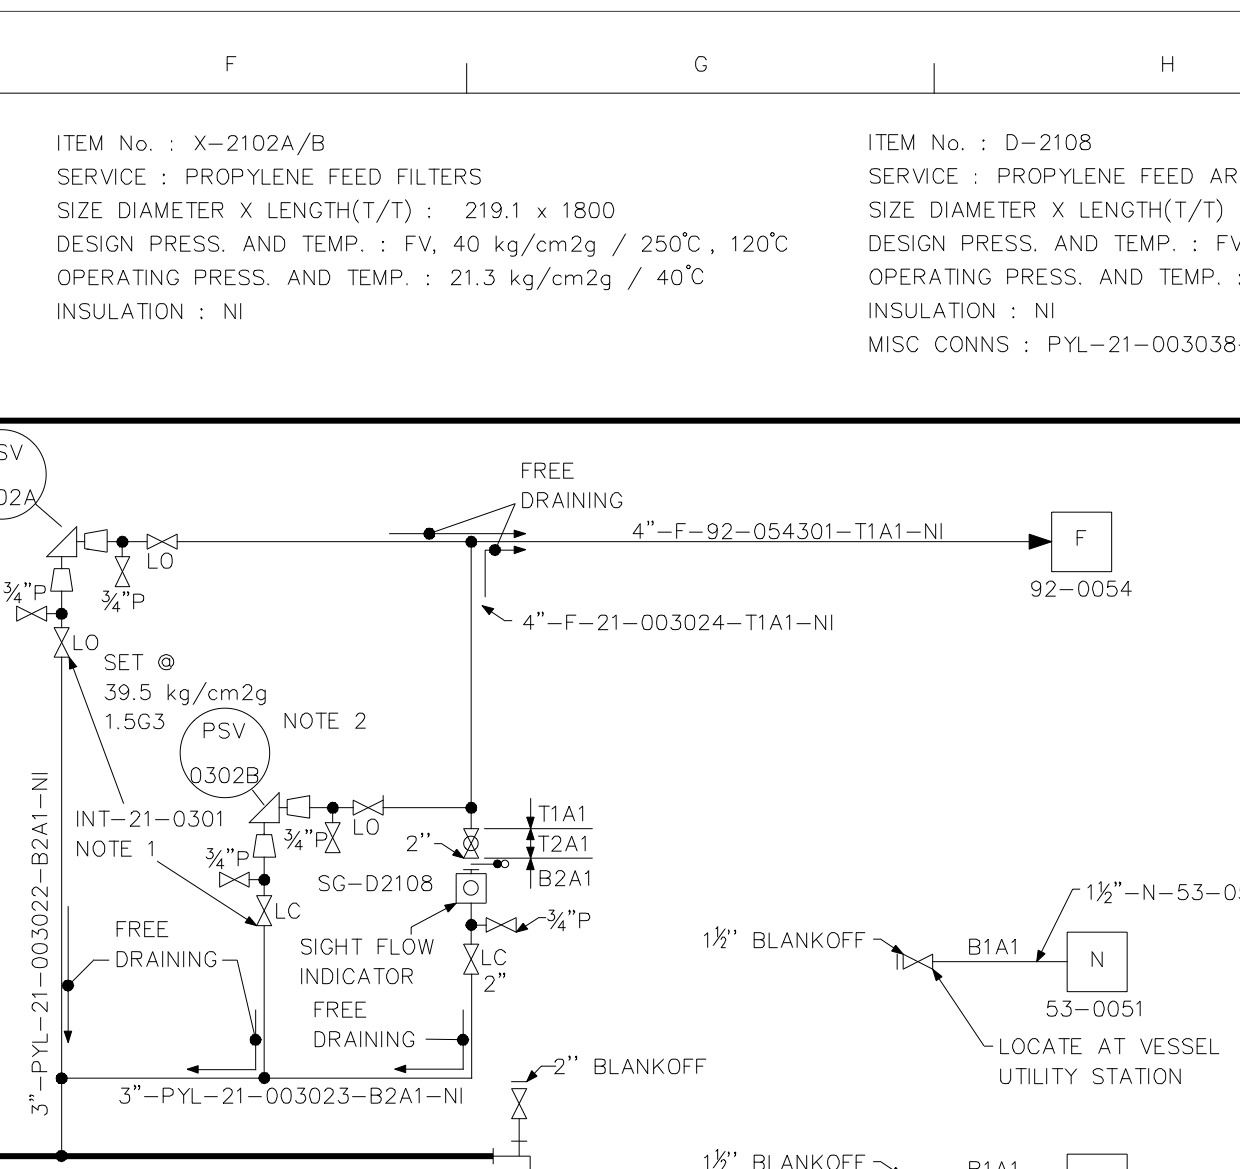Ball Valve: (459, 822, 482, 862)
Line Number: (116, 1083, 467, 1107), (520, 609, 837, 634), (630, 516, 948, 541)
PSV: (41, 520, 81, 564), (245, 786, 284, 830)
Spetacle Blind: (456, 856, 514, 873)
